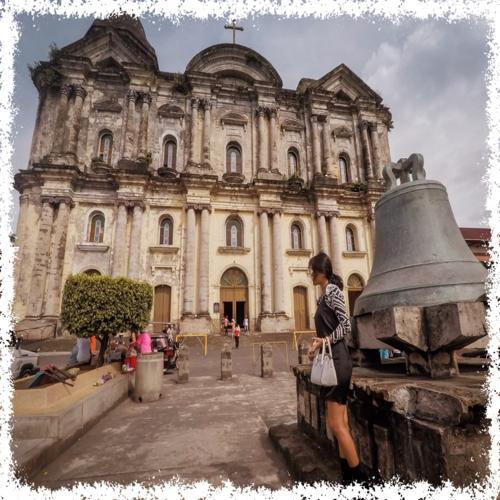Taal Basilica Church: (16, 16, 409, 334)
